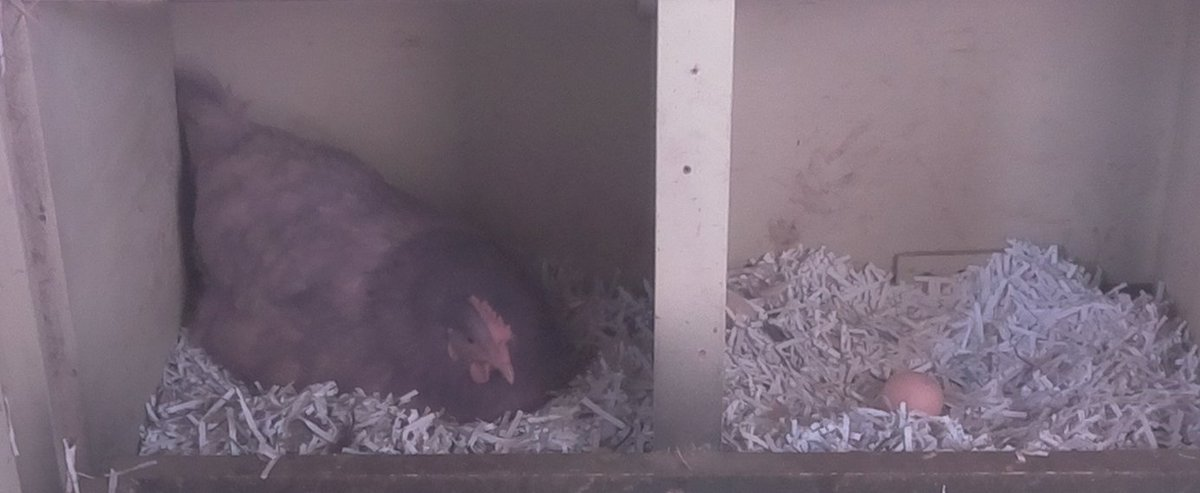egg: (877, 368, 947, 424)
hen: (169, 84, 577, 420)
